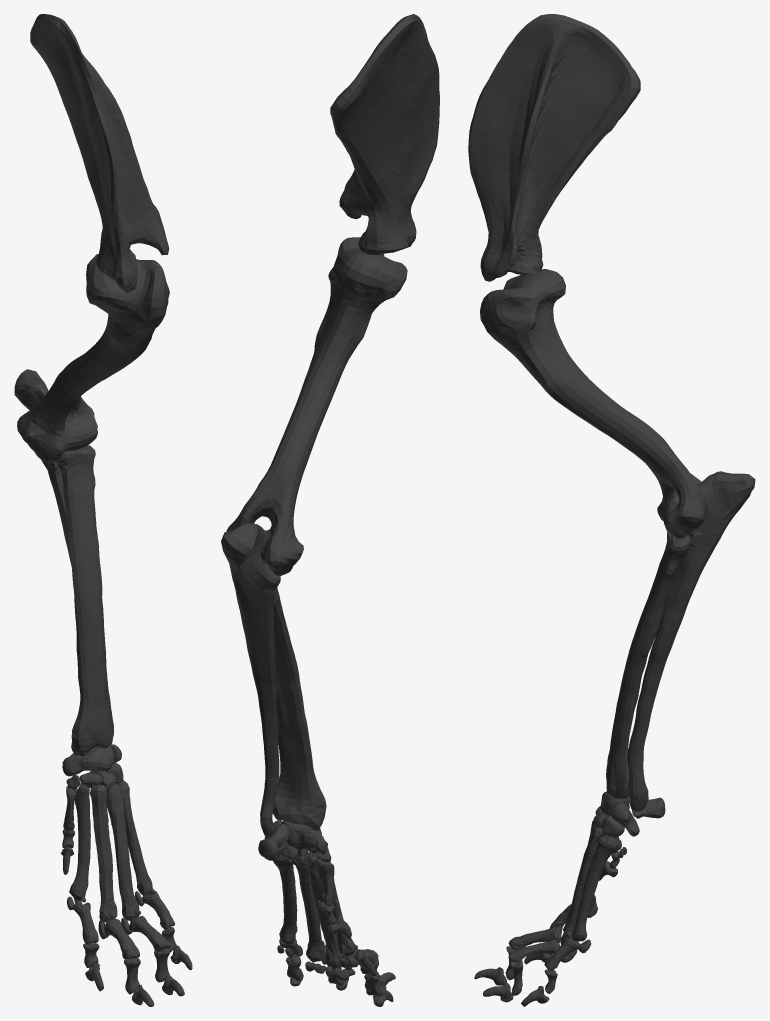
File: Humerus.glb
3 renders of one model, left to right at view 1: azimuth 30°, elevation 25°; view 2: azimuth 150°, elevation 25°; view 3: azimuth 270°, elevation 25°, orthographic. The views are drawn at different scales.
Visible parts, largest first — view 1: Humerus; view 2: Humerus; view 3: Humerus.
Part boxes in pixels (x1,y1,x2,y2): Humerus: [14, 14, 192, 1006]; Humerus: [221, 14, 439, 1006]; Humerus: [468, 14, 755, 1006].
Size of the model in its own units: 0.3265 by 2.45 by 0.6742.
Materials: 1 (1 with a texture image).
